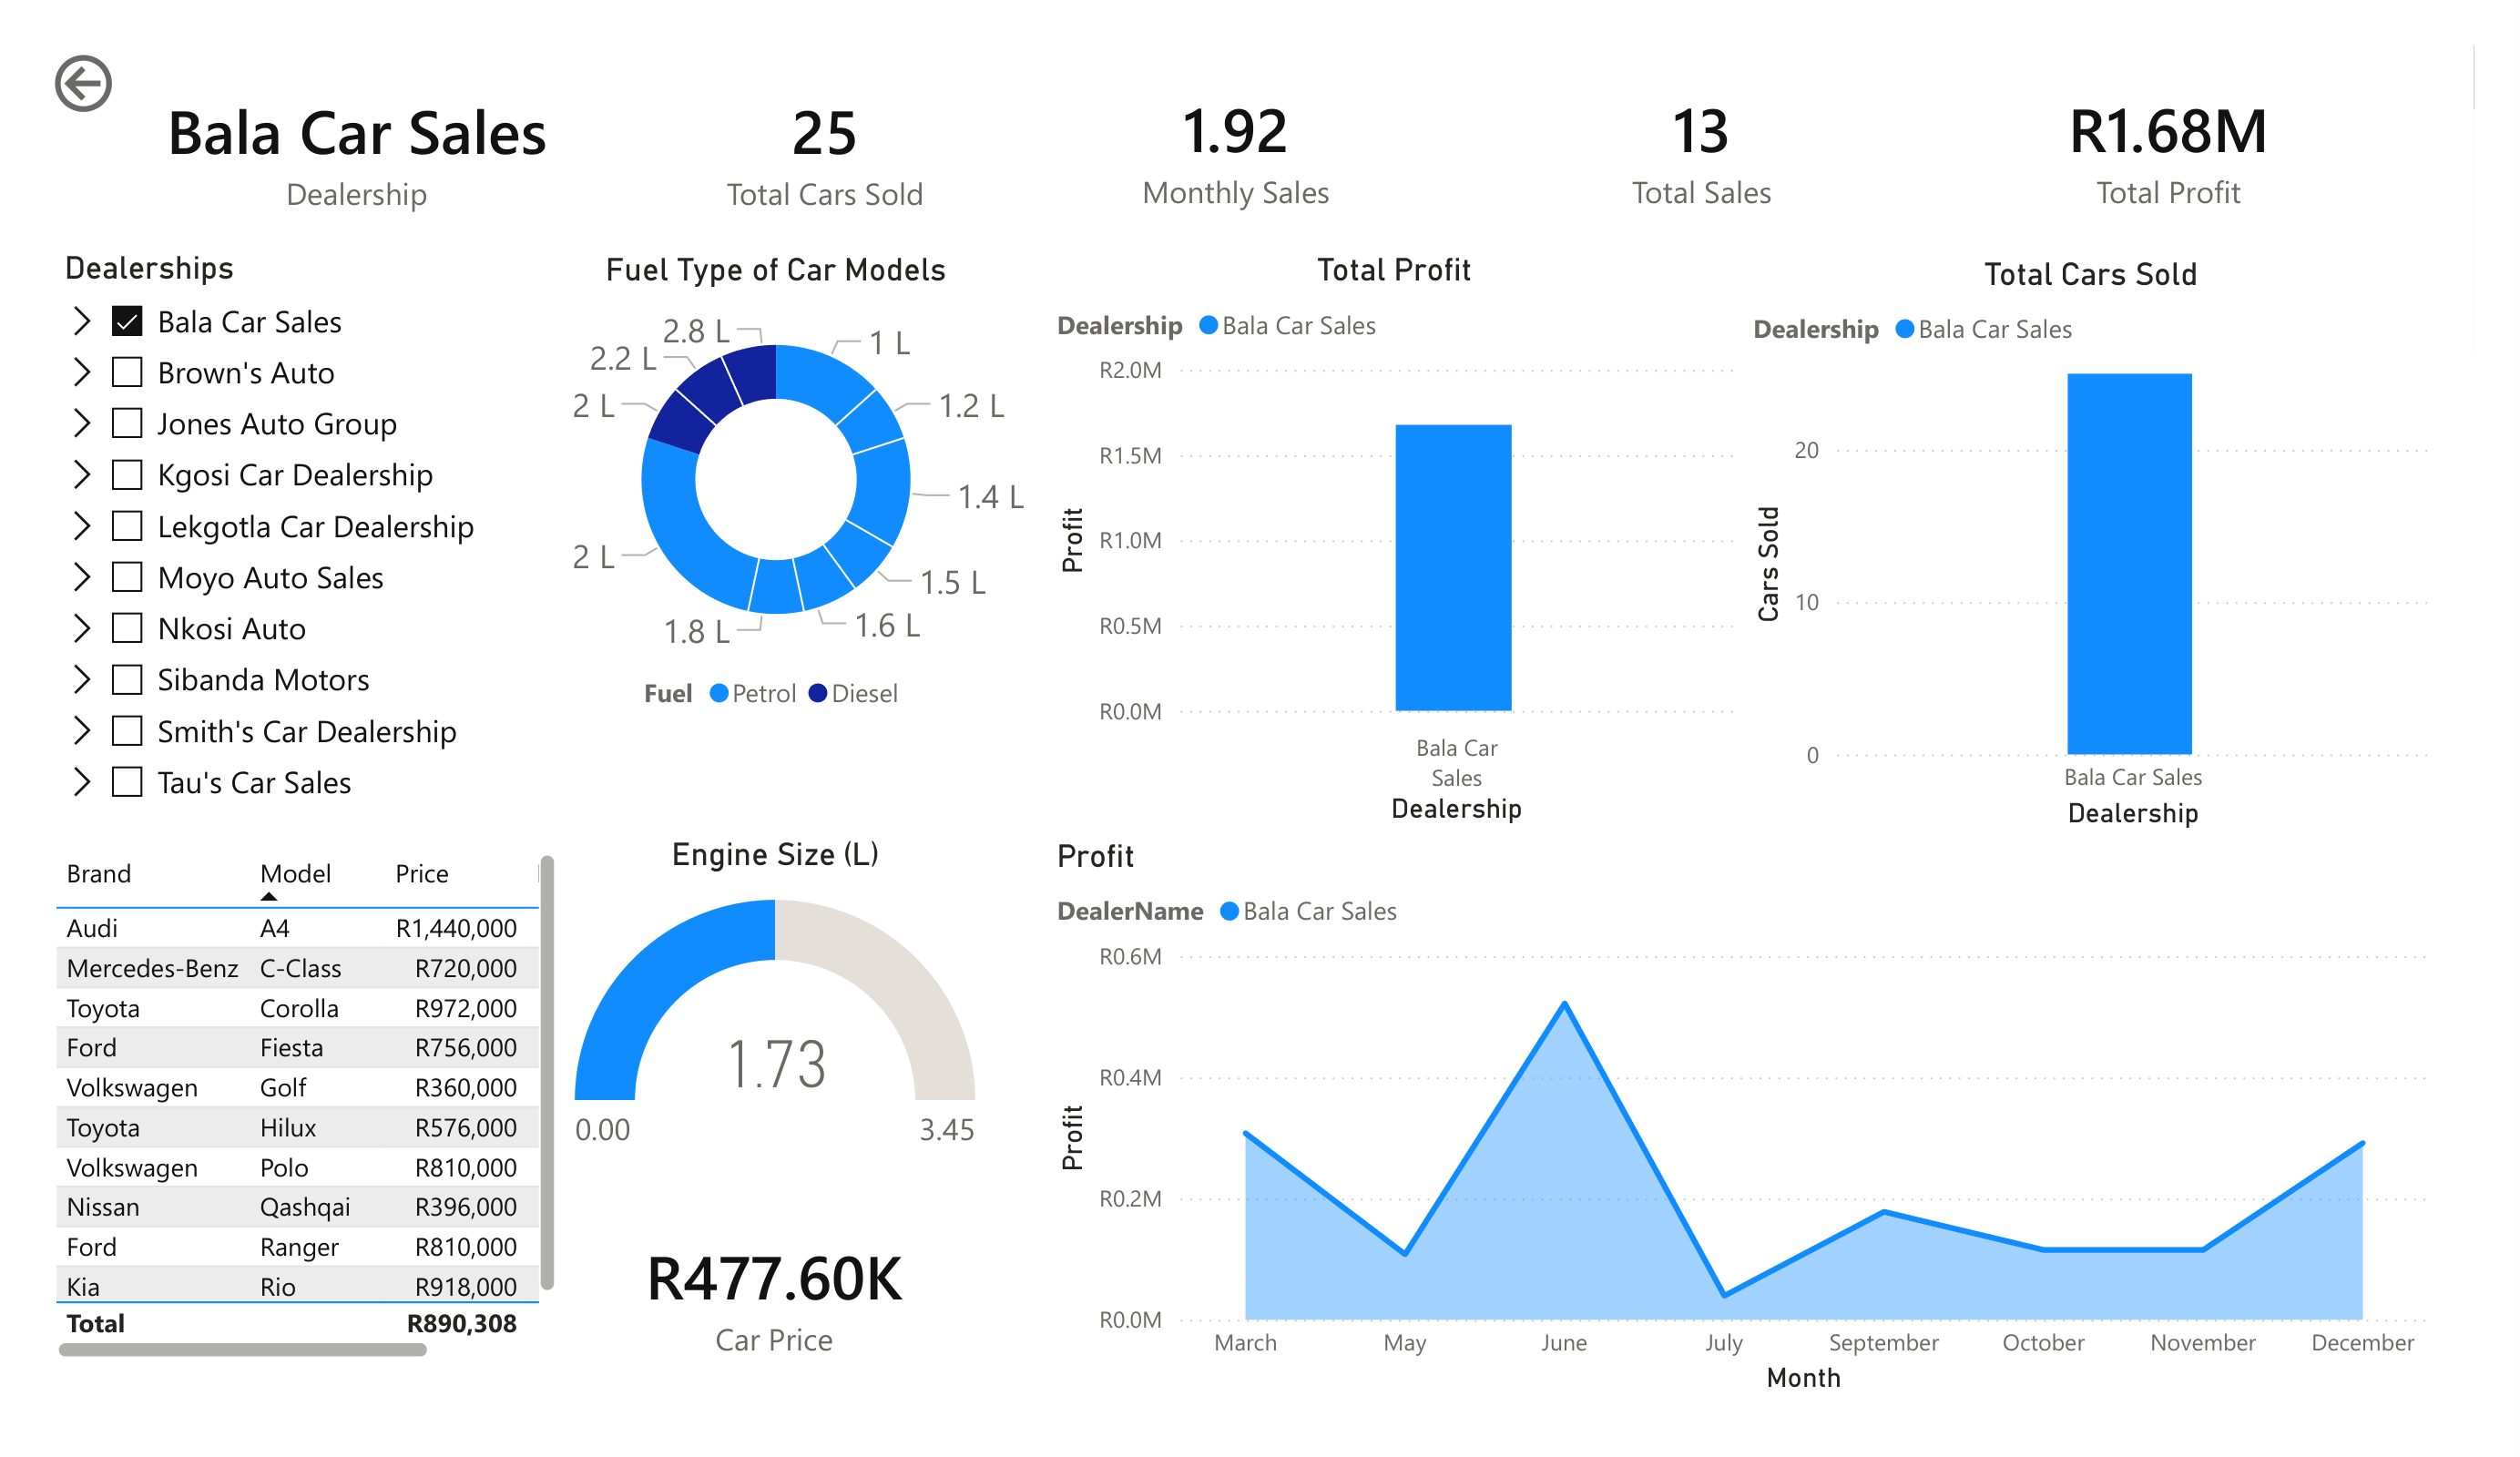

The page's visual inventory and layout, read from the dashboard file:
{"tool":"powerbi","page":{"name":"Page 1","canvas":[1280,720],"ordinal":0},"visuals":[{"type":"cardVisual","fields":{"Data":["CountNonNull(Sales.Quantity)"]},"box":[801.4,0,144.1,109.8],"z":0},{"type":"cardVisual","fields":{"Data":["Sum(Sales.Quantity)"]},"box":[327.7,0,166.3,110.1],"z":1000},{"type":"cardVisual","fields":{"Data":["Sum(Sales.Total Profit (ZAR))"]},"box":[1012.7,0,212.7,109.8],"z":2000},{"type":"tableEx","fields":{"Values":["Models.Brand","Models.Model","Models.Price (ZAR)"]},"box":[9.6,362.3,262.1,355.4],"z":3000},{"type":"cardVisual","fields":{"Data":["Avg(Sales.Quantity)"]},"box":[548.9,0,157.8,109.8],"z":4000},{"type":"cardVisual","fields":{"Data":["Min(Dealers.DealerName)"]},"box":[23.2,0,265.4,110.1],"z":5000},{"type":"donutChart","title":"Fuel Type of Car Models","fields":{"Category":["Models.Fuel"],"Y":["CountNonNull(Models.Fuel)"],"Series":["Models.Engine Sizes (L)"]},"box":[242.1,107.6,286.1,251.9],"z":6000},{"type":"tableEx","fields":{"Values":["Dealers.DealerID","Dealers.DealerName"]},"box":[9.8,99,232.3,249.5],"z":7000},{"type":"gauge","fields":{"Y":["Avg(Models.EngineSize (L))"]},"box":[273.9,414.5,221.3,187.1],"z":8000},{"type":"columnChart","title":"Total Profit","fields":{"Category":["Dealers.DealerName","Sales.Date.Variation.Date Hierarchy.Month","Dealers.City","Models.Brand","Models.Model"],"Y":["Sum(Sales.Total Profit (ZAR))"],"Series":["Dealers.DealerName"]},"box":[528.3,107.6,365.6,306.9],"z":9000},{"type":"columnChart","title":"Total Cars Sold","fields":{"Category":["Dealers.DealerName","Dealers.City","Models.Segment","Models.Model"],"Y":["Sum(Sales.Quantity)"],"Series":["Dealers.DealerName"]},"box":[894.7,109.8,366.4,307.4],"z":10000},{"type":"actionButton","box":[0,0,100,40],"z":11000},{"type":"lineChart","title":"Monthly Profit (ZAR)","fields":{"Category":["Sales.Date.Variation.Date Hierarchy.Month","Dealers.Country","Dealers.City"],"Series":["Dealers.DealerName"],"Y":["Avg(Sales.Total Profit (ZAR))"]},"box":[528.3,417.2,731.4,303.3],"z":12000},{"type":"cardVisual","fields":{"Data":["Avg(Models.Price (ZAR))"]},"box":[271.5,584.5,216.4,135.7],"z":13000}]}

Visuals, with their boxes on the page's 1280x720 design canvas (x1, y1, x2, y2). These are canvas units, not pixel positions in the 2520x1457 screenshot, which may show the page scaled, cropped or inside an application window:
cardVisual - CountNonNull(Sales.Quantity): rect(801, 0, 946, 110)
cardVisual - Sum(Sales.Quantity): rect(328, 0, 494, 110)
cardVisual - Sum(Sales.Total Profit (ZAR)): rect(1013, 0, 1225, 110)
tableEx - Models.Brand x Models.Model: rect(10, 362, 272, 718)
cardVisual - Avg(Sales.Quantity): rect(549, 0, 707, 110)
cardVisual - Min(Dealers.DealerName): rect(23, 0, 289, 110)
"Fuel Type of Car Models" donutChart: rect(242, 108, 528, 360)
tableEx - Dealers.DealerID x Dealers.DealerName: rect(10, 99, 242, 348)
gauge - Avg(Models.EngineSize (L)): rect(274, 414, 495, 602)
"Total Profit" columnChart: rect(528, 108, 894, 414)
"Total Cars Sold" columnChart: rect(895, 110, 1261, 417)
actionButton: rect(0, 0, 100, 40)
"Monthly Profit (ZAR)" lineChart: rect(528, 417, 1260, 720)
cardVisual - Avg(Models.Price (ZAR)): rect(272, 584, 488, 720)
